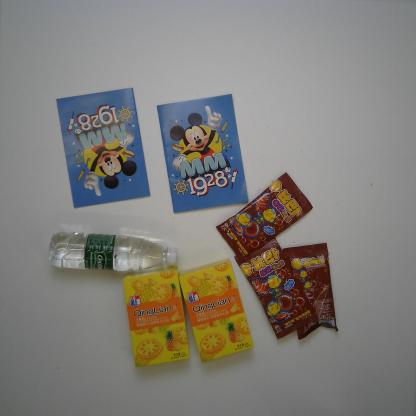Candy: (233, 235, 319, 342), (212, 171, 314, 258), (283, 240, 338, 340)
Dessert: (176, 256, 254, 362), (122, 265, 193, 370)
Drink: (46, 230, 181, 275)
Stationery: (154, 91, 251, 216), (54, 87, 150, 210)
